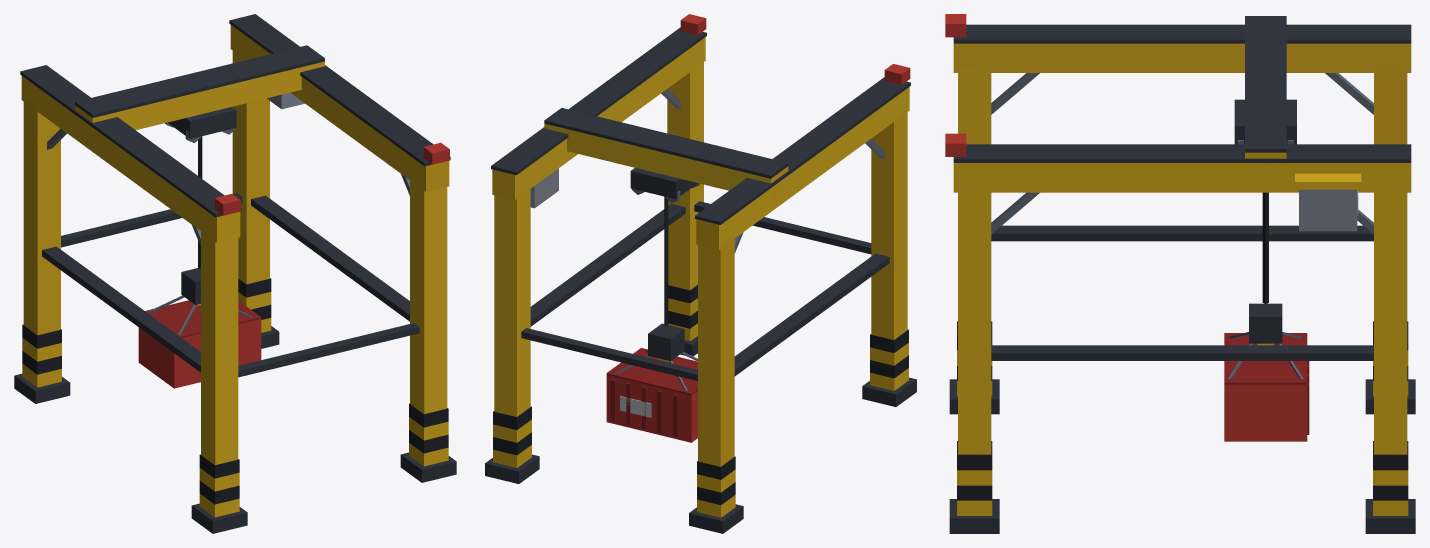
The model's file is Decor_RobotFactory_Crane.fbx.
3 renders of one model, left to right at view 1: azimuth 30°, elevation 25°; view 2: azimuth 150°, elevation 25°; view 3: azimuth 270°, elevation 25°, orthographic. The views are drawn at different scales.
Parts seen in each view (by area): view 1: Crane_Body; view 2: Crane_Body; view 3: Crane_Body.
Part boxes in pixels (bbox=[...]): Crane_Body: bbox=[14, 14, 456, 533]; Crane_Body: bbox=[485, 14, 916, 533]; Crane_Body: bbox=[945, 14, 1415, 533].
Size of the model in its own units: 16 by 19.9 by 22.
